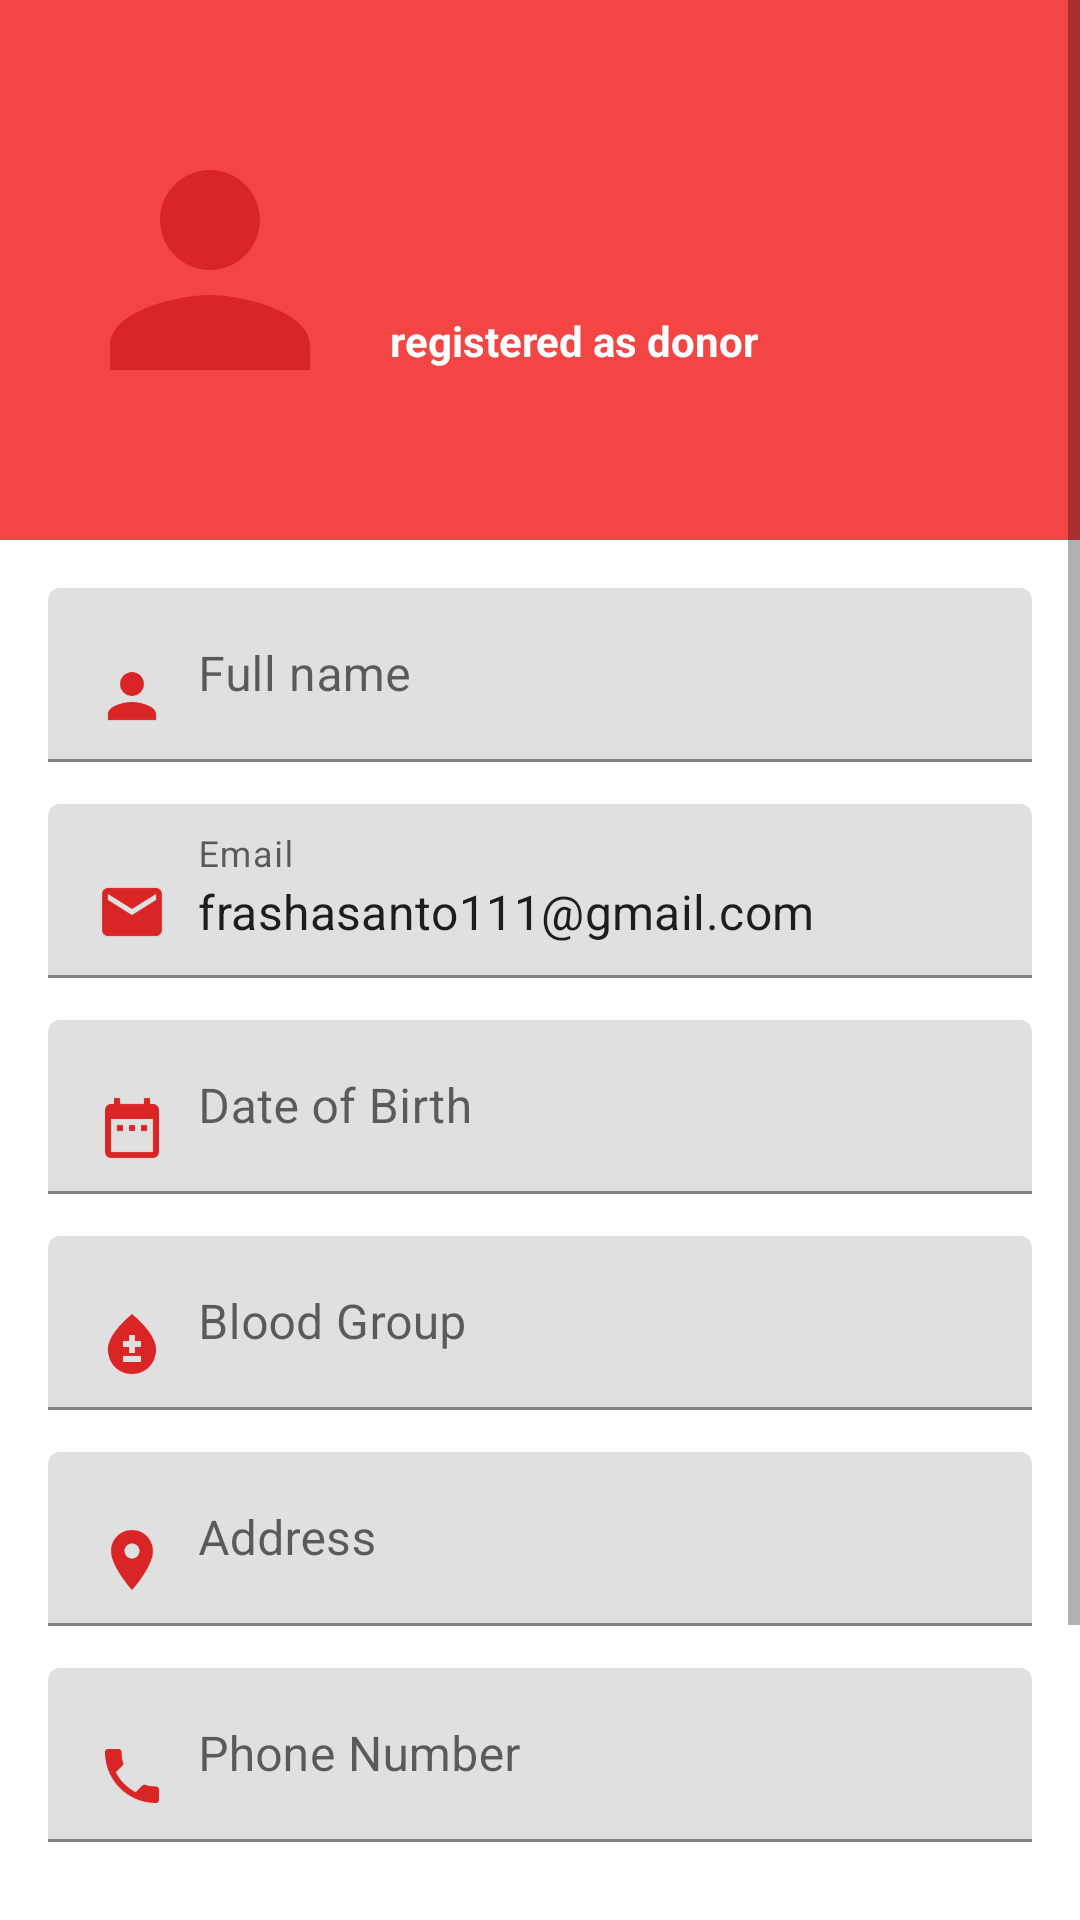

Where icons sit on this 1080 × 1920 app screen, as [x1=x1, y1=y1, x2=x2, y2=y2]:
profile: [x1=110, y1=170, x2=310, y2=370]
